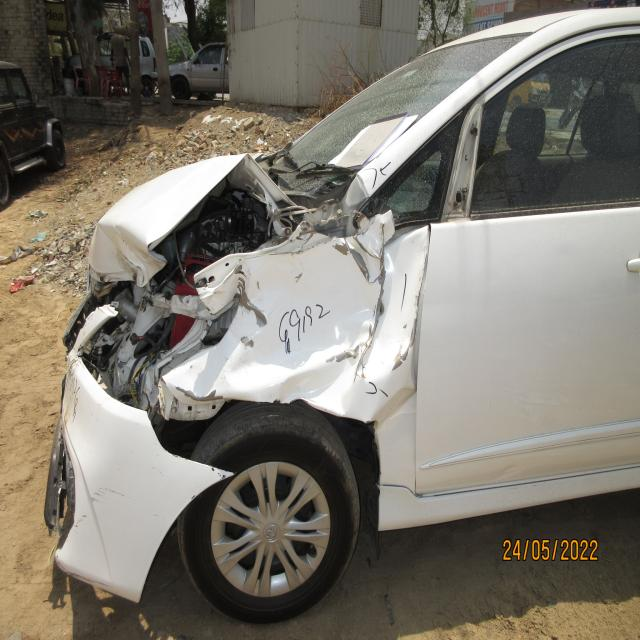damage: (164, 214, 431, 427), (86, 138, 313, 280), (374, 143, 452, 227), (37, 427, 81, 568), (443, 106, 495, 225), (69, 479, 139, 534), (62, 289, 116, 354)
